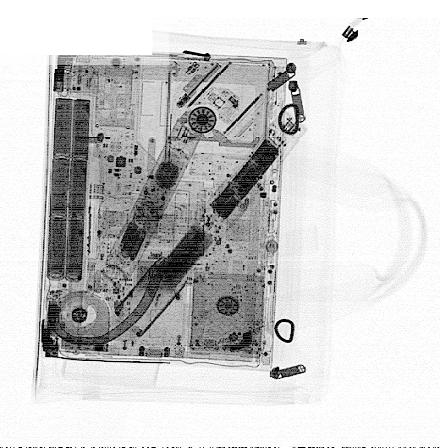Baton: (114, 105, 310, 339), (100, 109, 205, 295)
